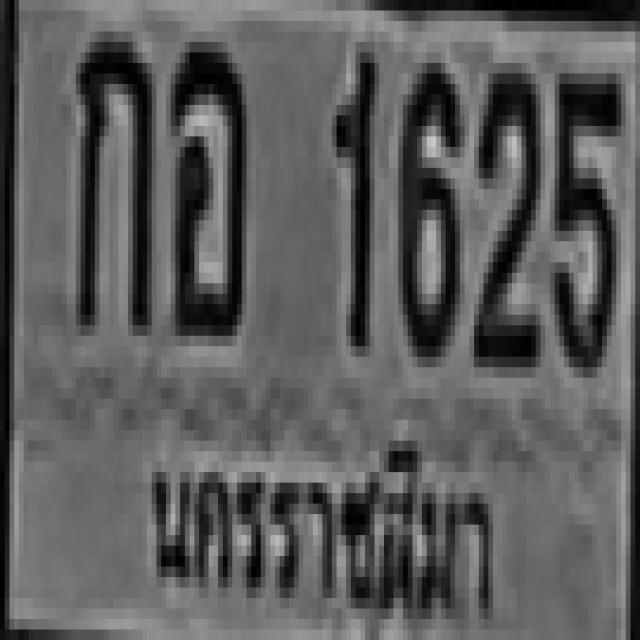1: (332, 42, 374, 346)
10GorGai: (74, 21, 150, 325)
2: (469, 52, 536, 357)
5: (550, 63, 616, 367)
52OrAng: (166, 32, 242, 326)
6: (394, 52, 455, 346)
NakhonRatchasima: (137, 416, 504, 640)
